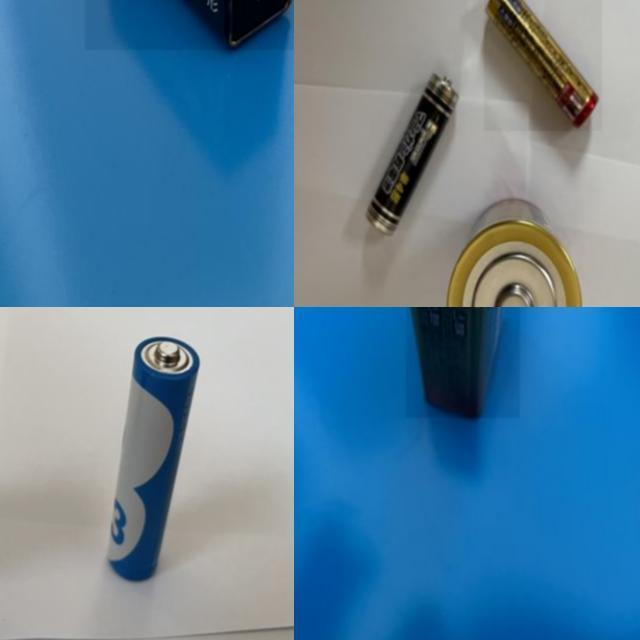9V: (406, 307, 520, 418)
